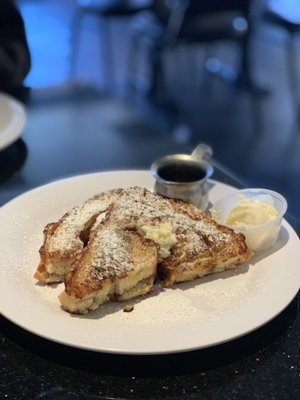sushi: (209, 187, 288, 252)
